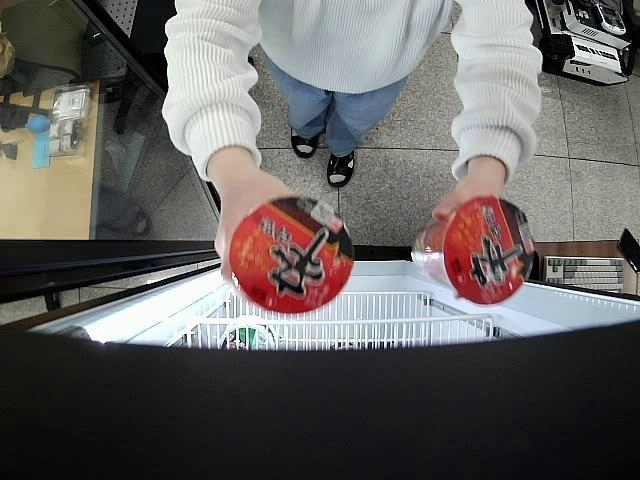02_shinRamen_S: (229, 194, 355, 315), (411, 195, 535, 306)
